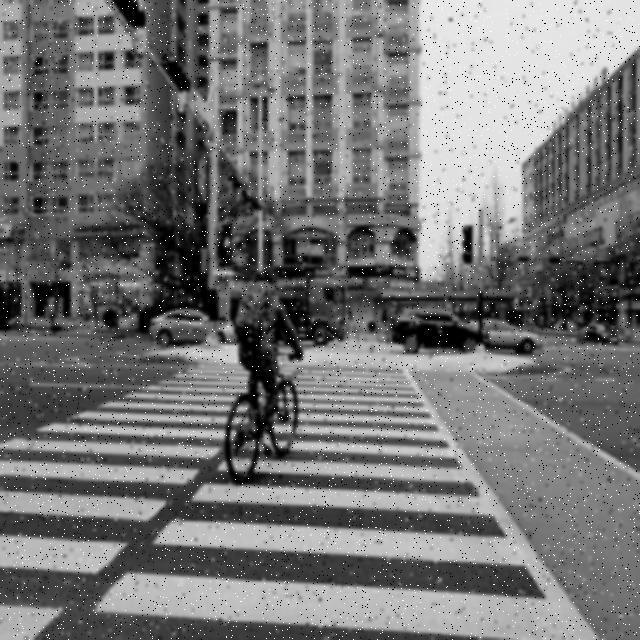Pedestrian crosswalk: (1, 374, 587, 638)
